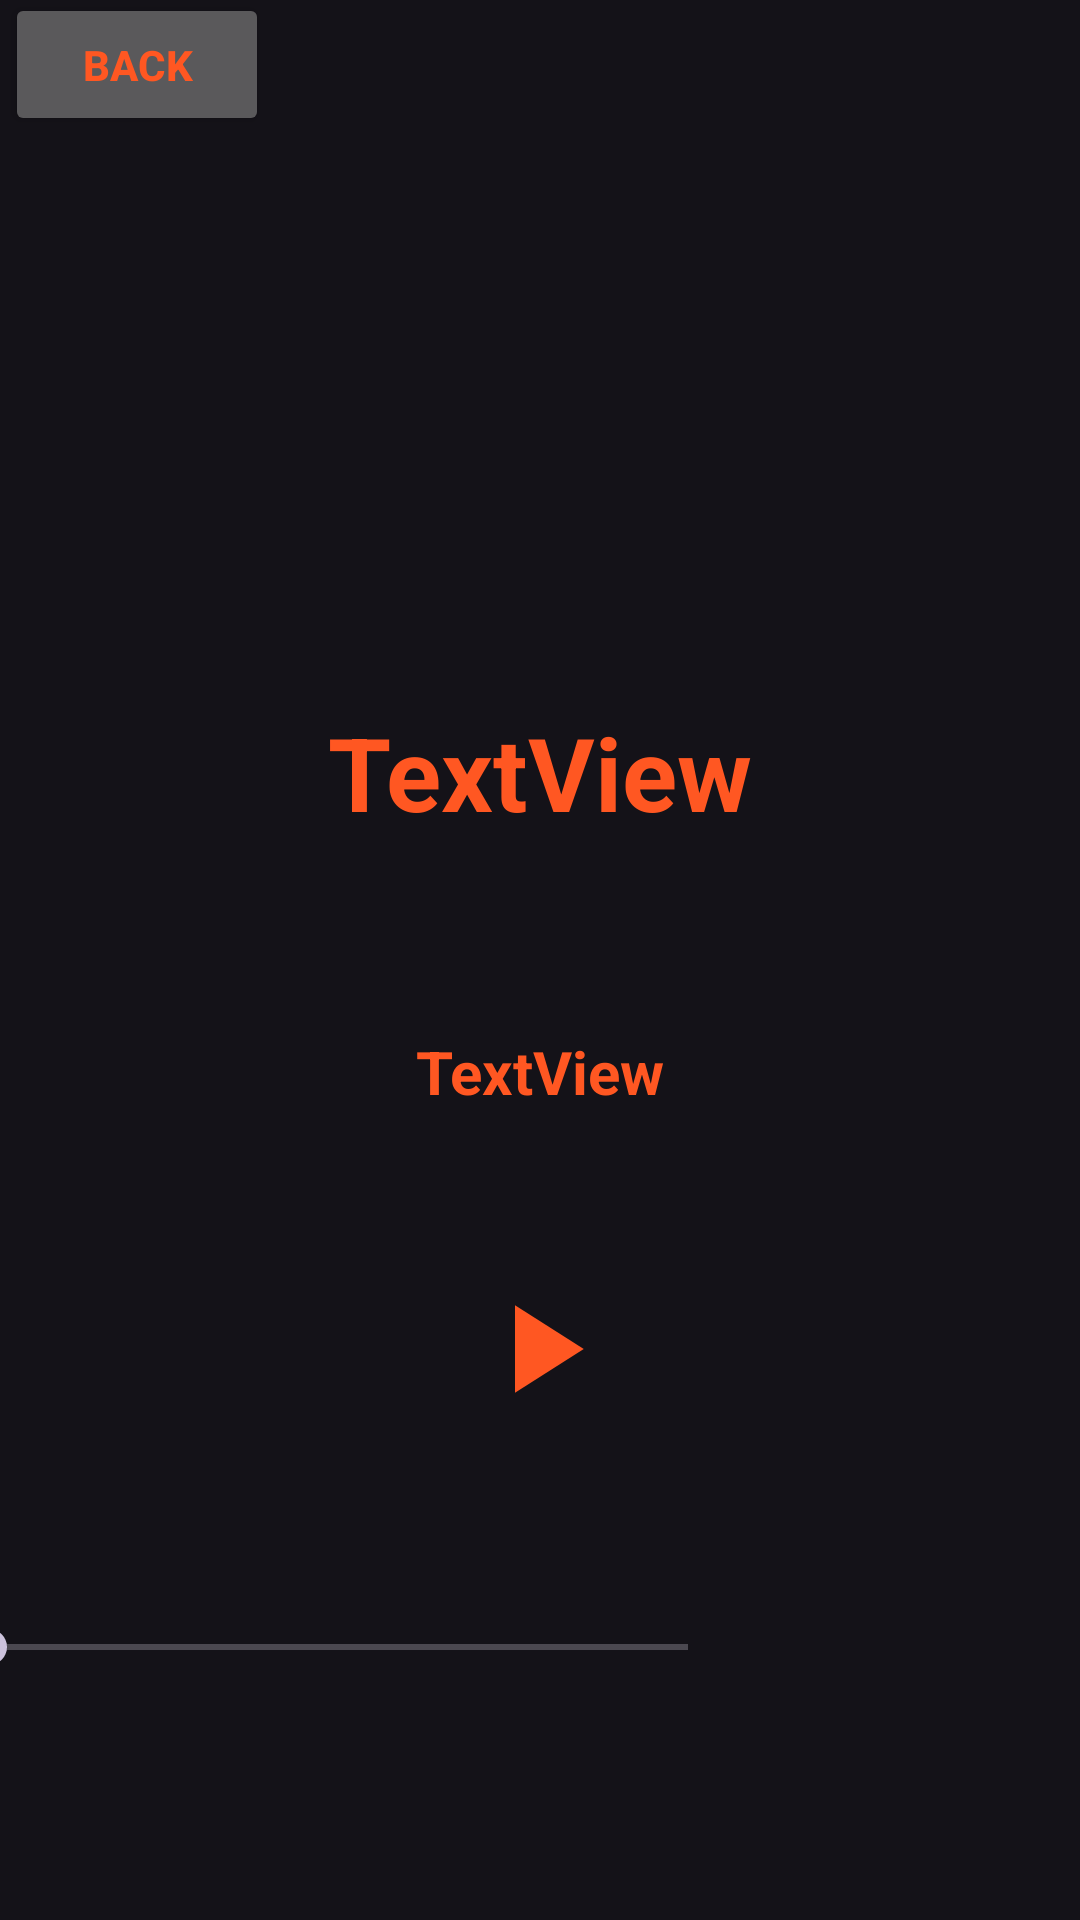

Point at icon controls on the screen. Image size 1080px×1920px, points as point (x, y).
play arrow: point (549, 1349)
